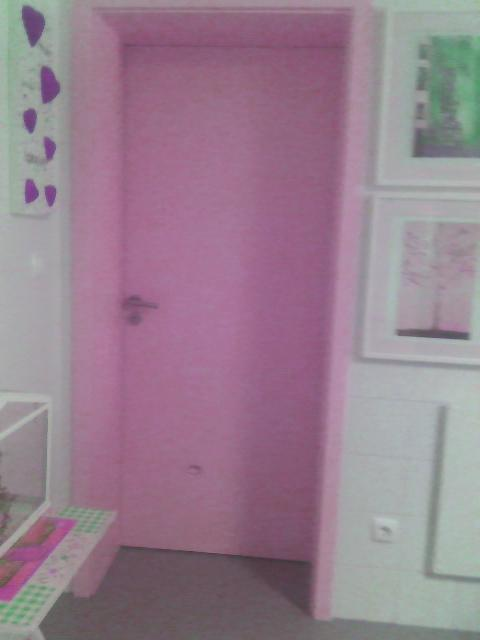closed_door: (67, 6, 366, 629)
